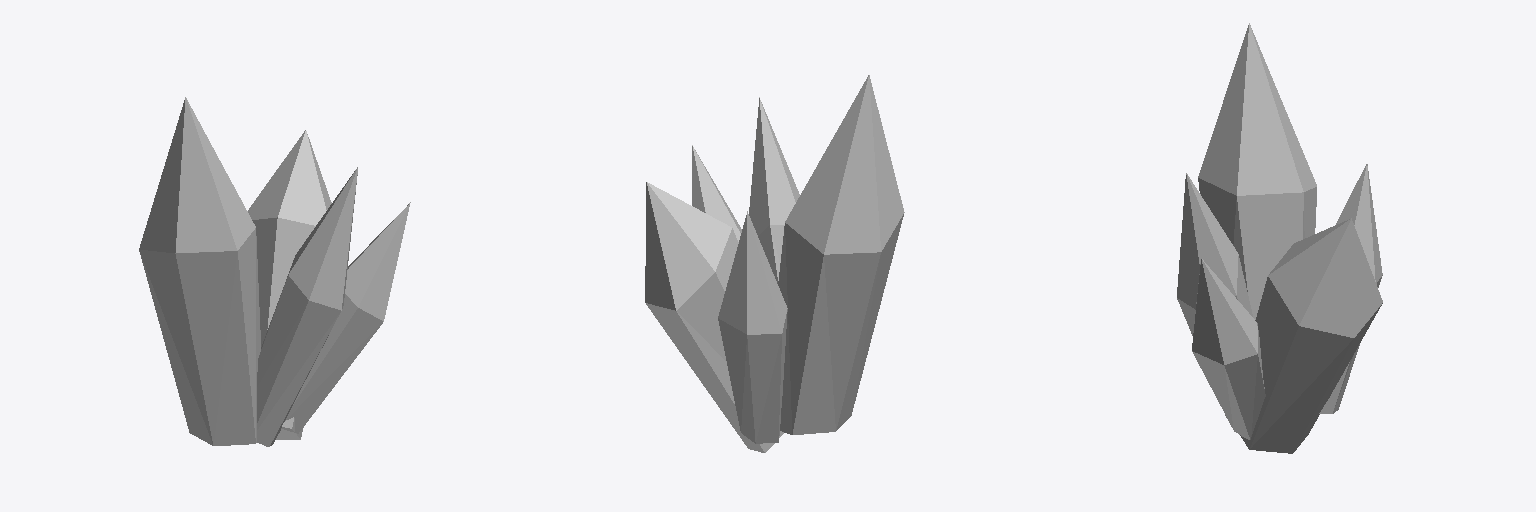
Rendered from crystal_1_009.obj.
3 views of the same model, side by side, from view 1: azimuth 30°, elevation 25°; view 2: azimuth 150°, elevation 25°; view 3: azimuth 270°, elevation 25° (orthographic).
Parts seen in each view (by area): view 1: crystal_6_Cylinder.007; view 2: crystal_6_Cylinder.007; view 3: crystal_6_Cylinder.007.
Part boxes in pixels (bbox=[...]): crystal_6_Cylinder.007: bbox=[139, 97, 410, 446]; crystal_6_Cylinder.007: bbox=[645, 75, 904, 452]; crystal_6_Cylinder.007: bbox=[1177, 23, 1382, 453].
Size of the model in its own units: 1.01 by 1.61 by 0.7876.